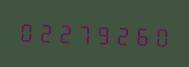nine: (93, 19, 111, 47)
seven: (74, 19, 92, 46)
six: (131, 21, 149, 48)
two: (36, 17, 54, 45), (55, 18, 73, 46), (112, 20, 130, 48)
zero: (150, 21, 168, 49), (17, 17, 35, 44)
